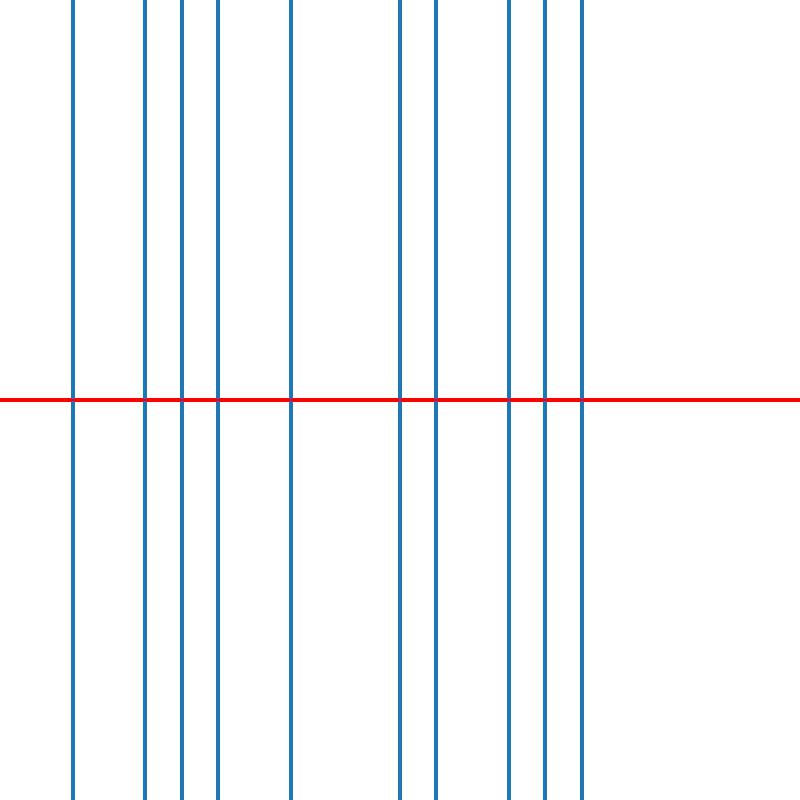root: (141, 396, 149, 404), (541, 396, 549, 404), (432, 396, 440, 404), (396, 396, 403, 404), (178, 396, 185, 404), (287, 396, 294, 404), (578, 396, 585, 404), (214, 396, 221, 404), (505, 396, 512, 404), (69, 396, 76, 404)
